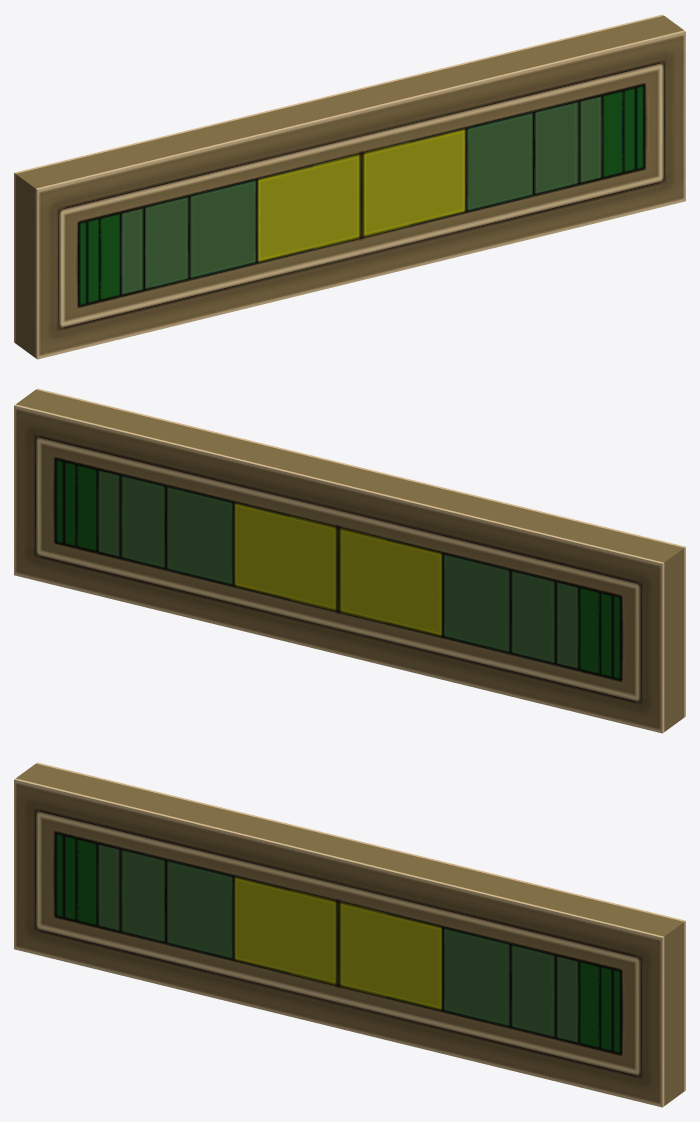
File: egypt_border_plank.gltf
3 renders of one model, top to bottom at view 1: azimuth 30°, elevation 25°; view 2: azimuth 150°, elevation 25°; view 3: azimuth 330°, elevation 25°, orthographic.
Visible parts, largest first — view 1: egypt_border_plank_glb; view 2: egypt_border_plank_glb; view 3: egypt_border_plank_glb.
Part boxes in pixels (x1=…): egypt_border_plank_glb: x1=14, y1=14, x2=685, y2=359; egypt_border_plank_glb: x1=14, y1=388, x2=685, y2=733; egypt_border_plank_glb: x1=14, y1=762, x2=685, y2=1107.
Size of what is drawn, in the model's own units: 4 by 1 by 0.25.
1 material, 1 textured.
